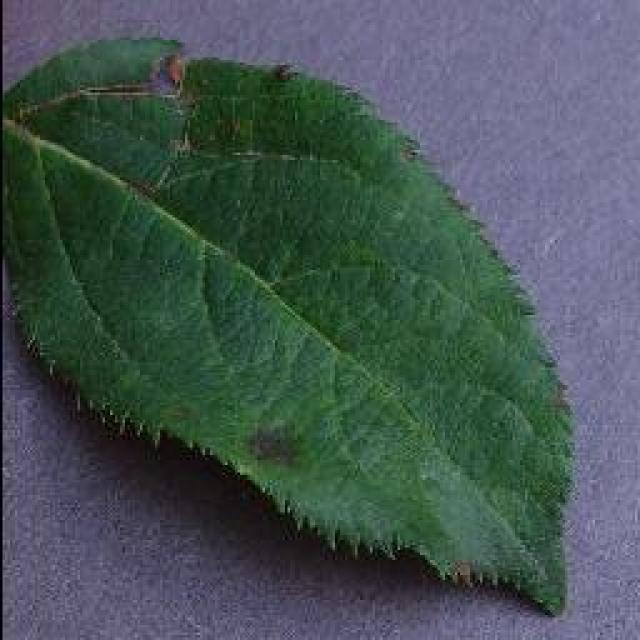apple scab disease: (0, 32, 578, 618)
